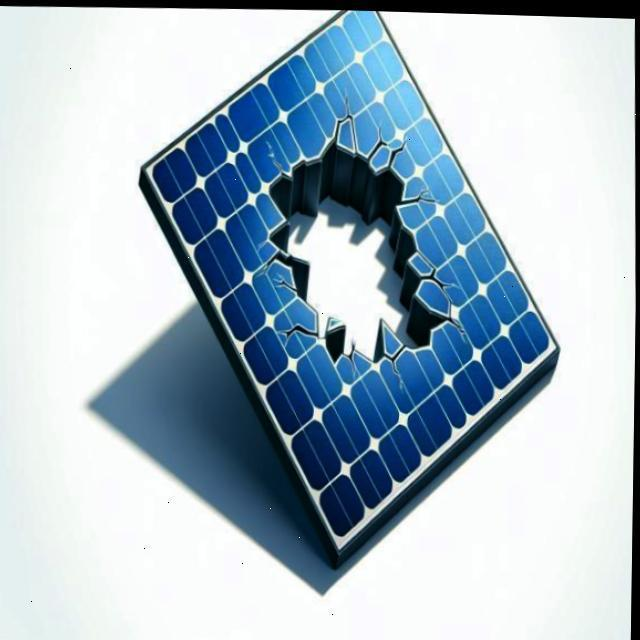Anomaly Solar Panel: (122, 8, 601, 550)
Structural Damage: (232, 118, 491, 393), (408, 237, 489, 340), (384, 339, 422, 388), (334, 86, 360, 149), (368, 113, 396, 161), (279, 315, 321, 345), (396, 182, 440, 209), (382, 133, 414, 164), (272, 269, 301, 293), (265, 138, 286, 171), (345, 336, 357, 374)
